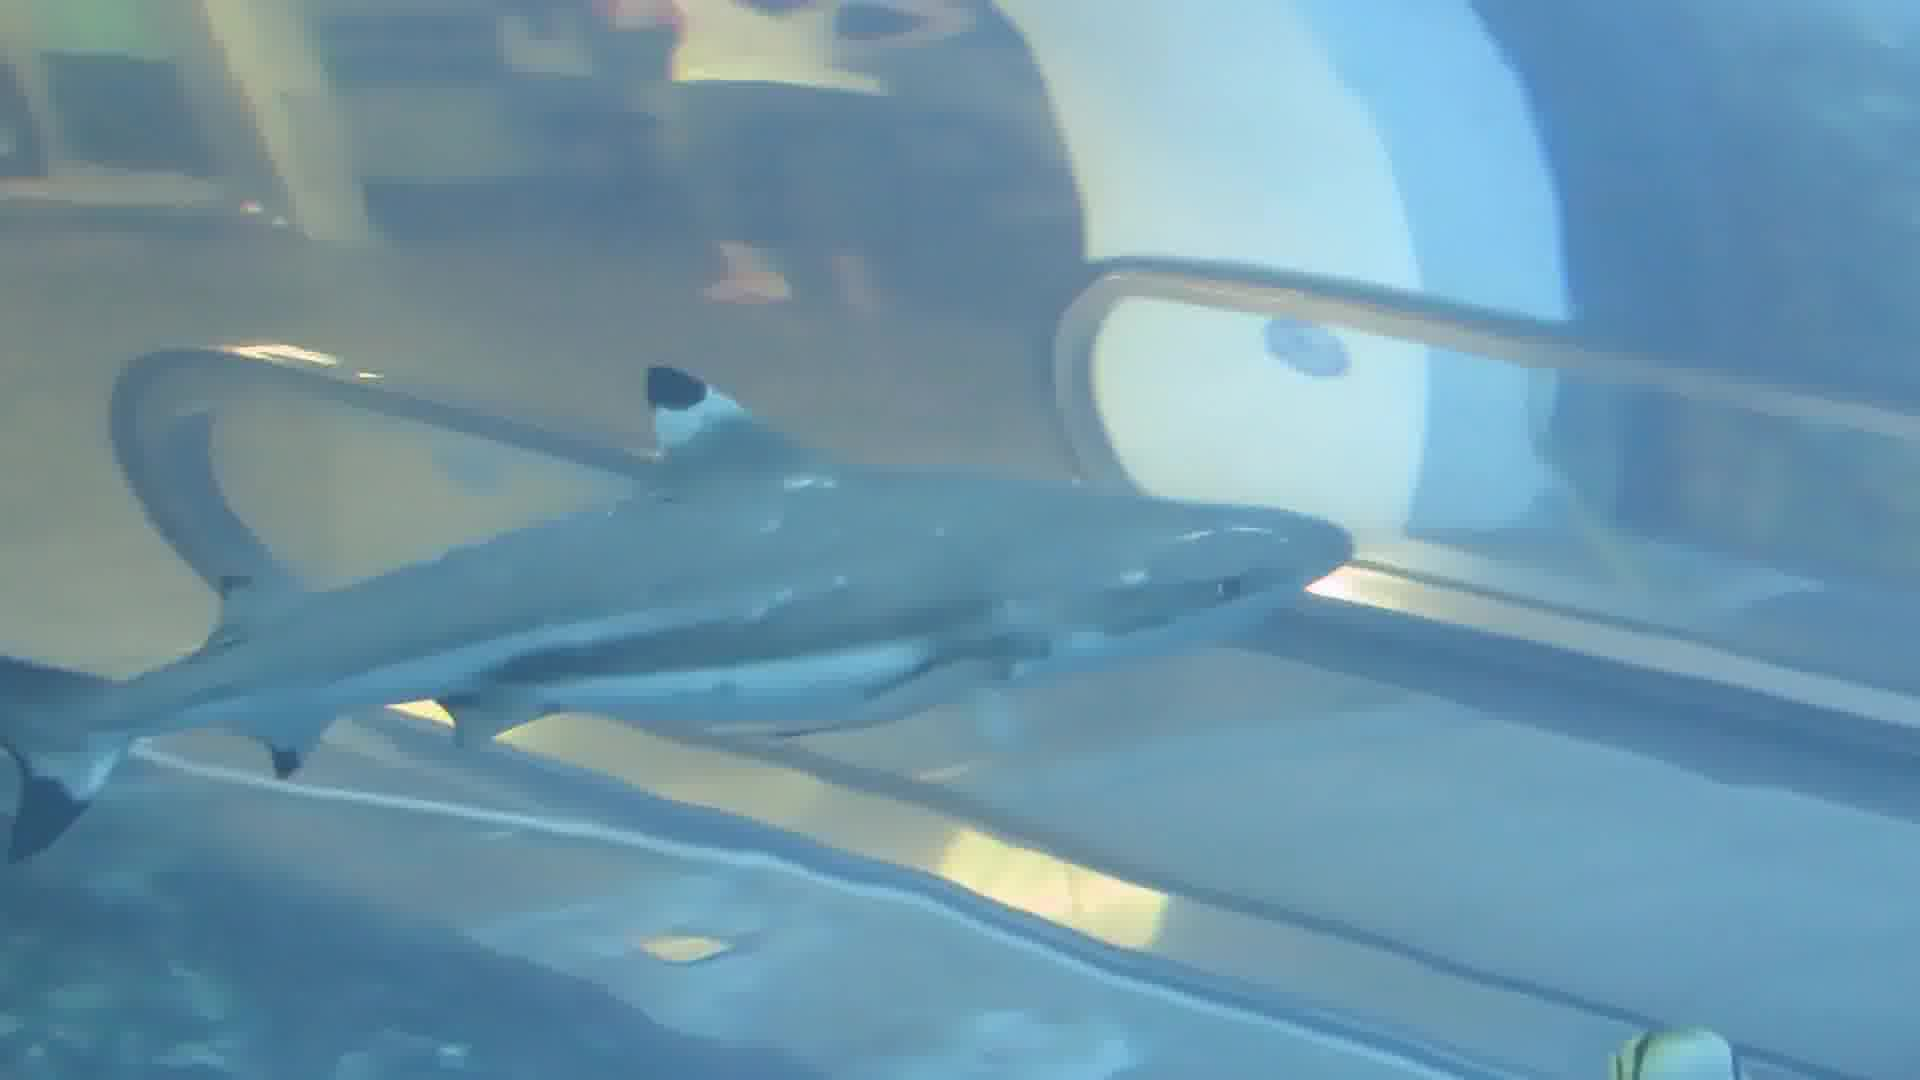Carcharhinus melanopterus: (1, 368, 1379, 836)
